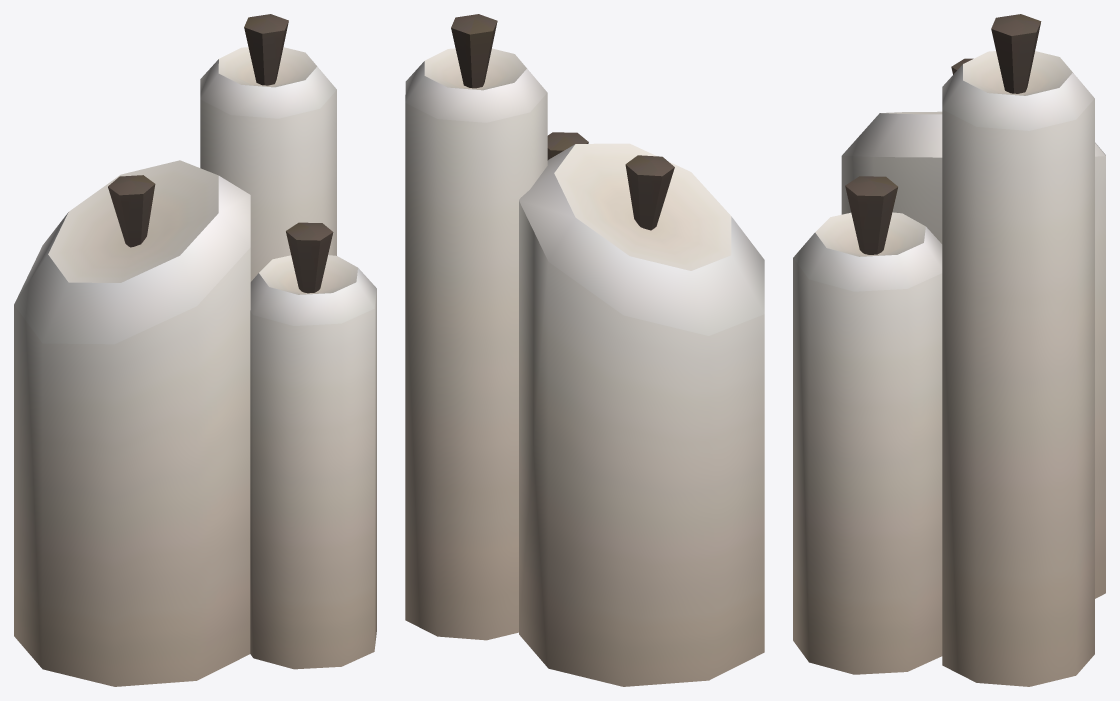
The model's file is candle_triple.glb.
3 views of the same model, side by side, from view 1: azimuth 30°, elevation 25°; view 2: azimuth 150°, elevation 25°; view 3: azimuth 270°, elevation 25° (orthographic). The views are drawn at different scales.
Parts seen in each view (by area): view 1: candle_triple; view 2: candle_triple; view 3: candle_triple.
Boxes of the visible parts, left/top/right/bottom form: candle_triple: left=14, top=14, right=376, bottom=686; candle_triple: left=405, top=14, right=764, bottom=686; candle_triple: left=793, top=14, right=1105, bottom=686.
Size of the model in its own units: 0.5012 by 0.873 by 0.3899.
1 material, 1 textured.
